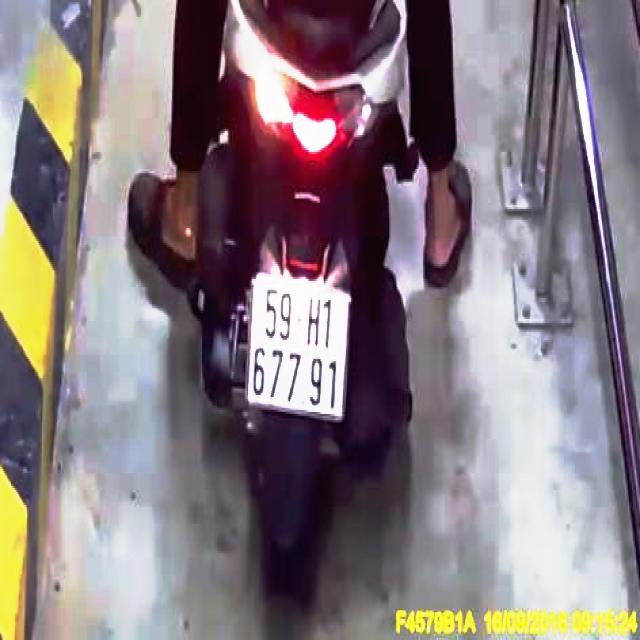license_plate: (246, 274, 353, 422)
